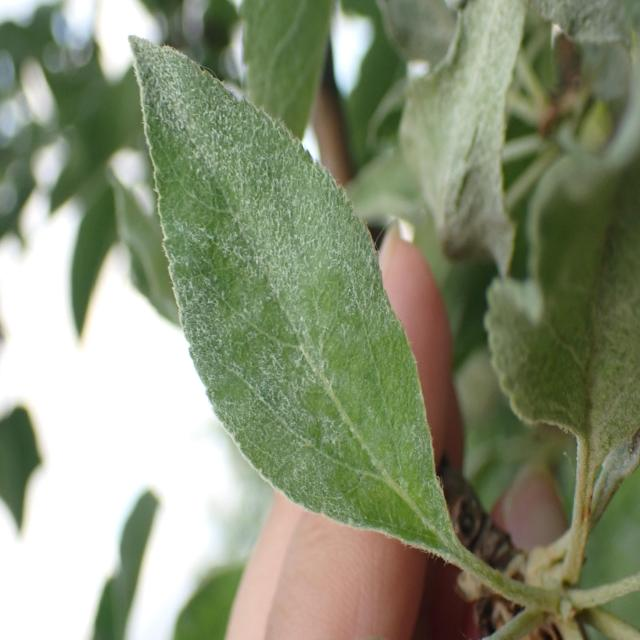Powdery_mildew: (122, 27, 462, 572), (493, 55, 640, 526), (410, 0, 528, 300)
